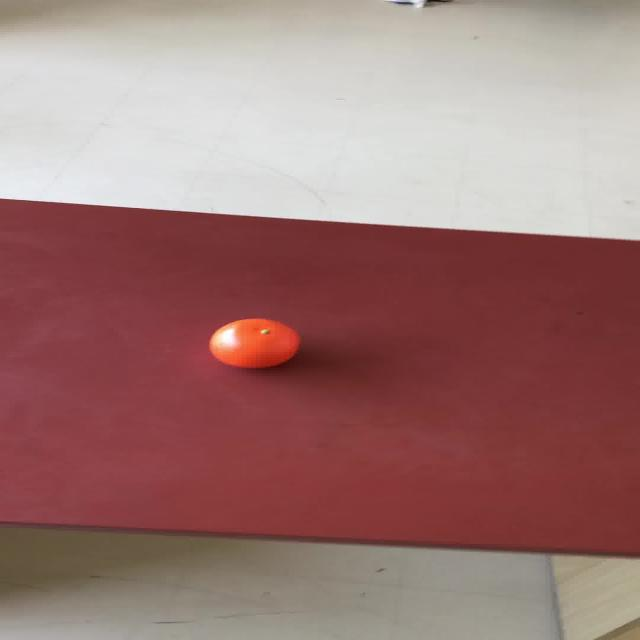orange: (207, 317, 300, 368)
